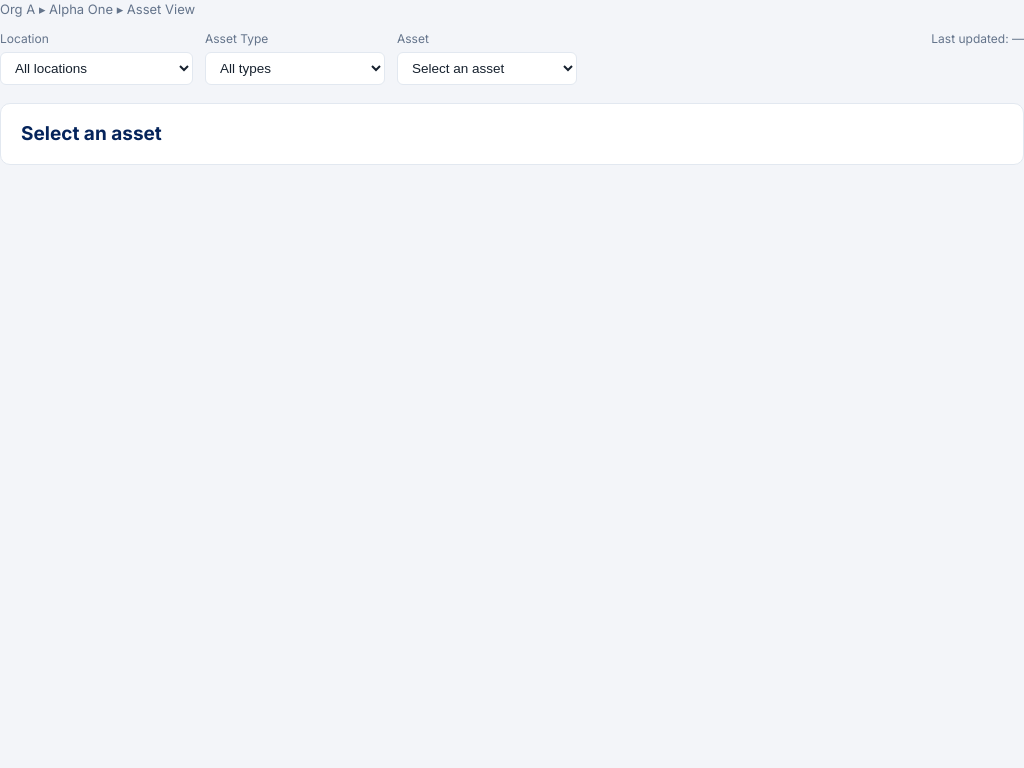
Test: AssetView › shows an error state when the initial snapshot fails and no live data has arrived, with a working retry
Select "AHU 01" in the dropdown with test id "filter-asset": {"x": 487, "y": 68} [397,52,577,84]
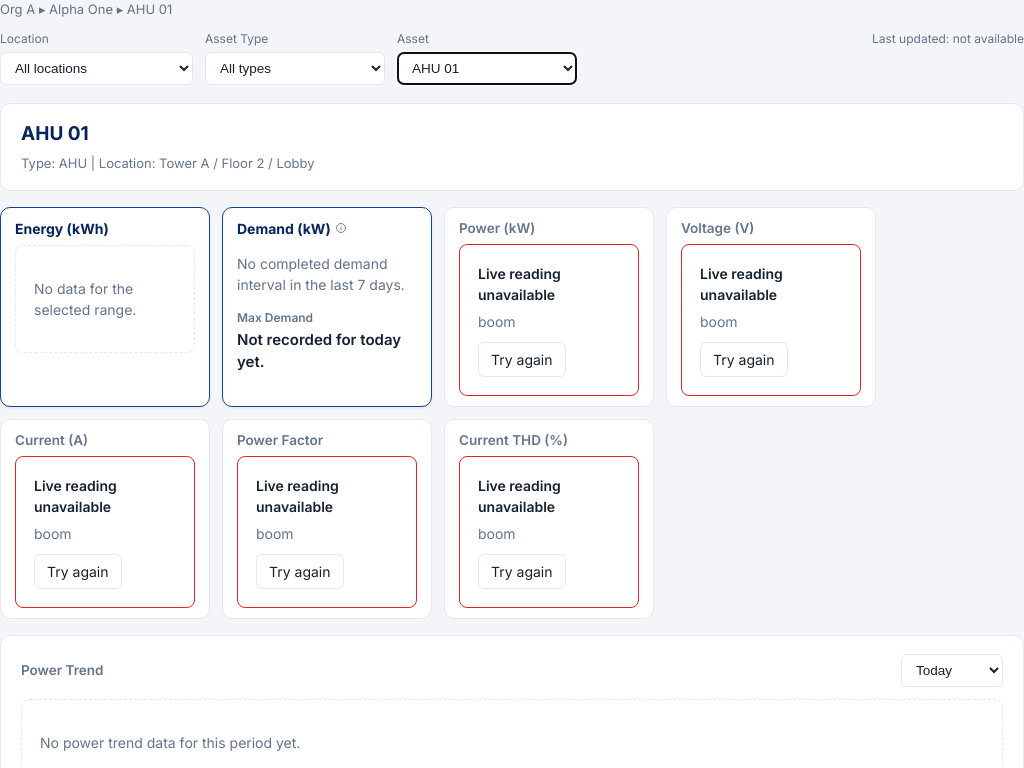
Now the message with test id "state-error" below "Power (kW)" is shown, box [459,244,639,396]
Click the button "Try again" below "Power (kW)": {"x": 522, "y": 359} [478,342,566,377]
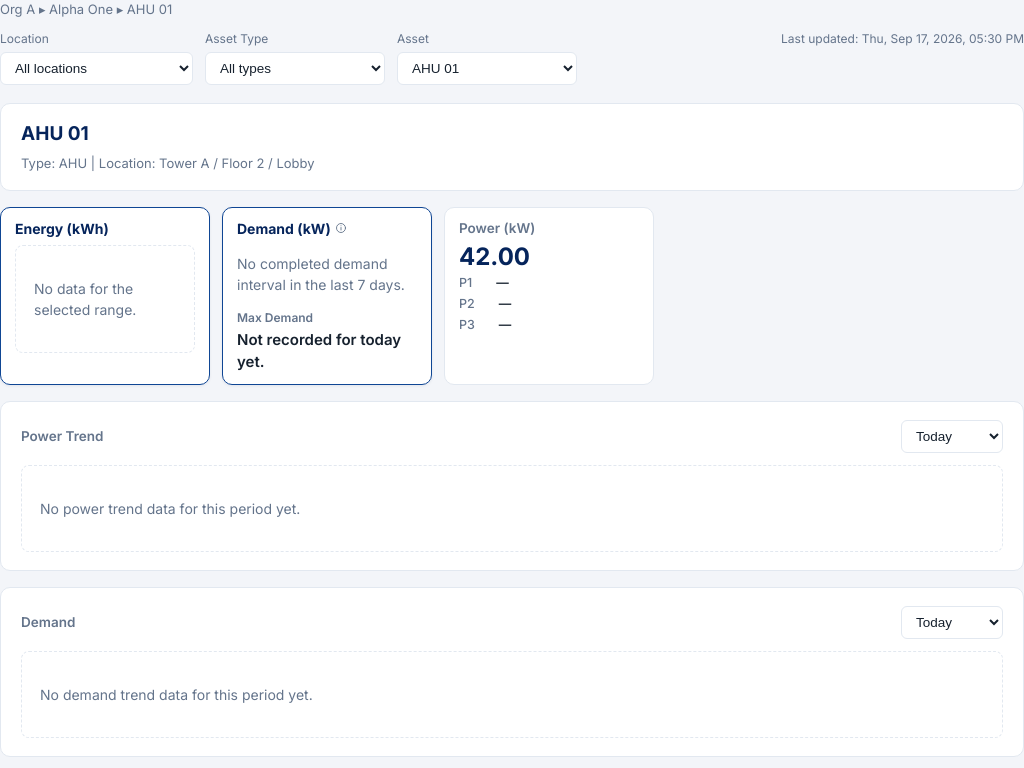
Now the text "42.00" is shown, box [459,242,530,271]
